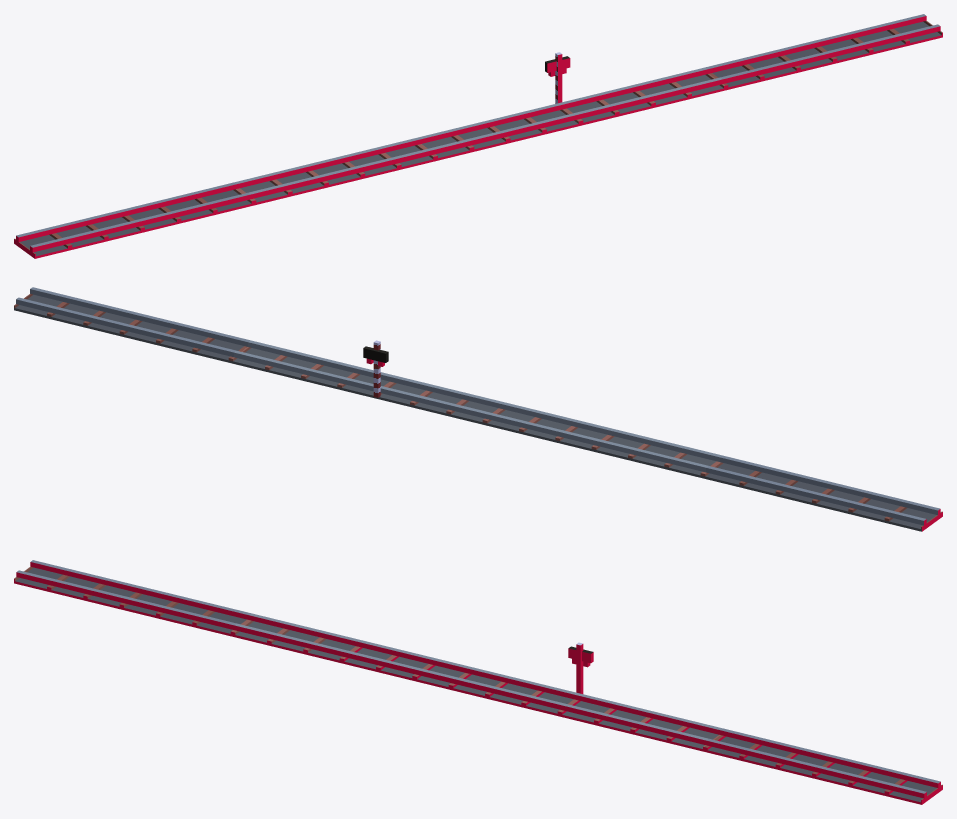
Rendered from rail_signal.gltf.
The picture shows the model from 3 angles, top to bottom: view 1: azimuth 30°, elevation 25°; view 2: azimuth 150°, elevation 25°; view 3: azimuth 330°, elevation 25°; orthographic projection.
Parts seen in each view (by area): view 1: cube; view 2: cube; view 3: cube.
Part boxes in pixels (x1=…): cube: x1=14, y1=14, x2=942, y2=258; cube: x1=14, y1=287, x2=942, y2=531; cube: x1=14, y1=560, x2=942, y2=804.
Bounding box in the file's own units: 25 × 1.5 × 1.12.
Materials: 1 (1 with a texture image).
